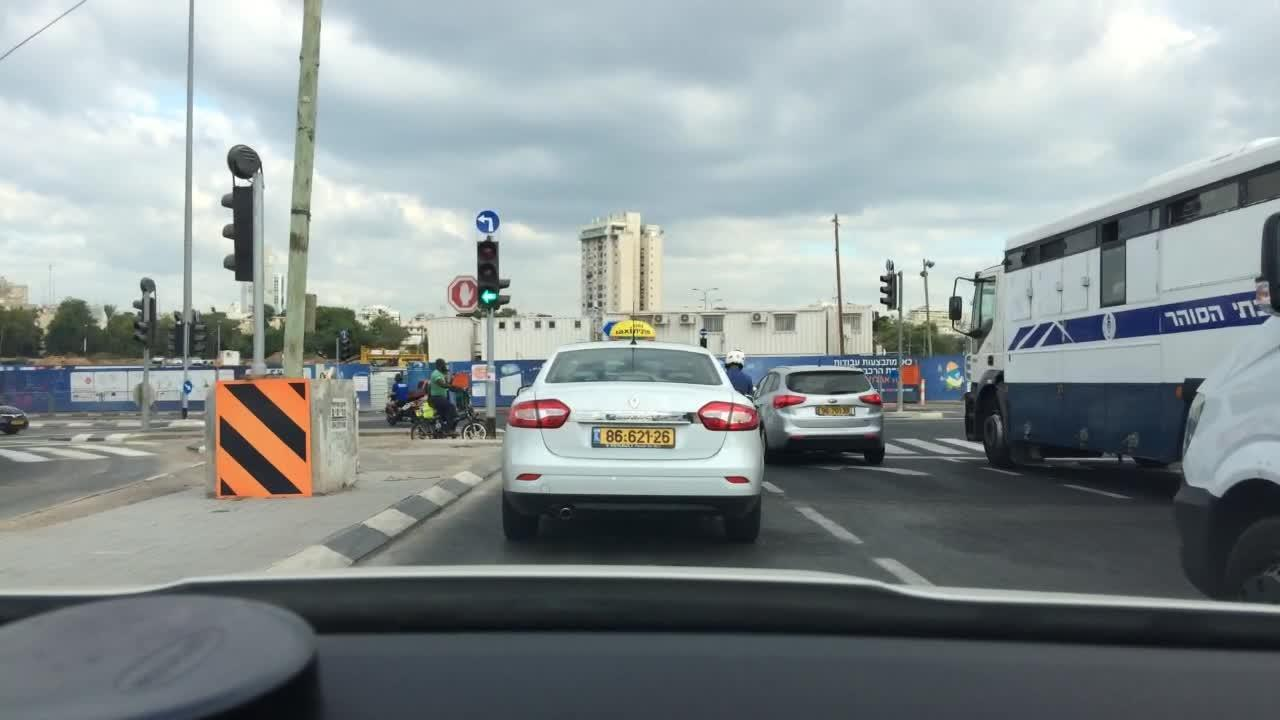Renault: (619, 394, 648, 417)
